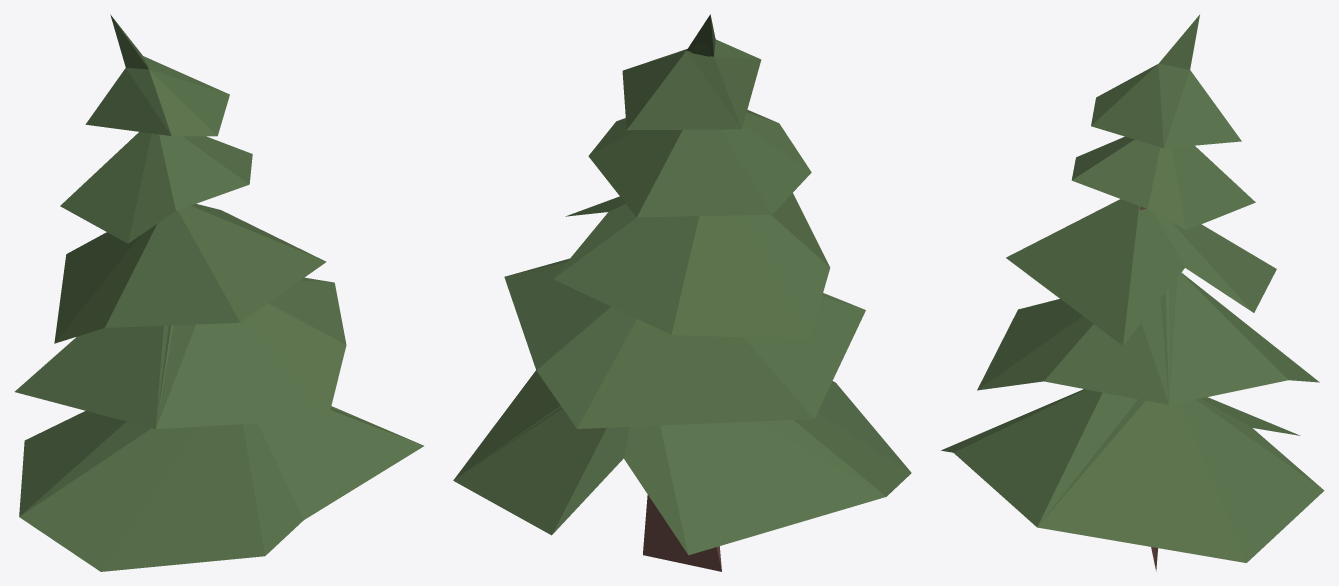
The model's file is PineTree_1.lod3.glb.
3 renders of one model, left to right at view 1: azimuth 30°, elevation 25°; view 2: azimuth 150°, elevation 25°; view 3: azimuth 270°, elevation 25°, orthographic. The views are drawn at different scales.
Visible parts, largest first — view 1: PineTree_1; view 2: PineTree_1; view 3: PineTree_1.
Boxes of the visible parts, x1,y1,x2,y2 form: PineTree_1: (14,14,423,571); PineTree_1: (453,14,911,571); PineTree_1: (941,14,1324,571).
Size of the model in its own units: 1.86 by 2.7 by 1.82.
